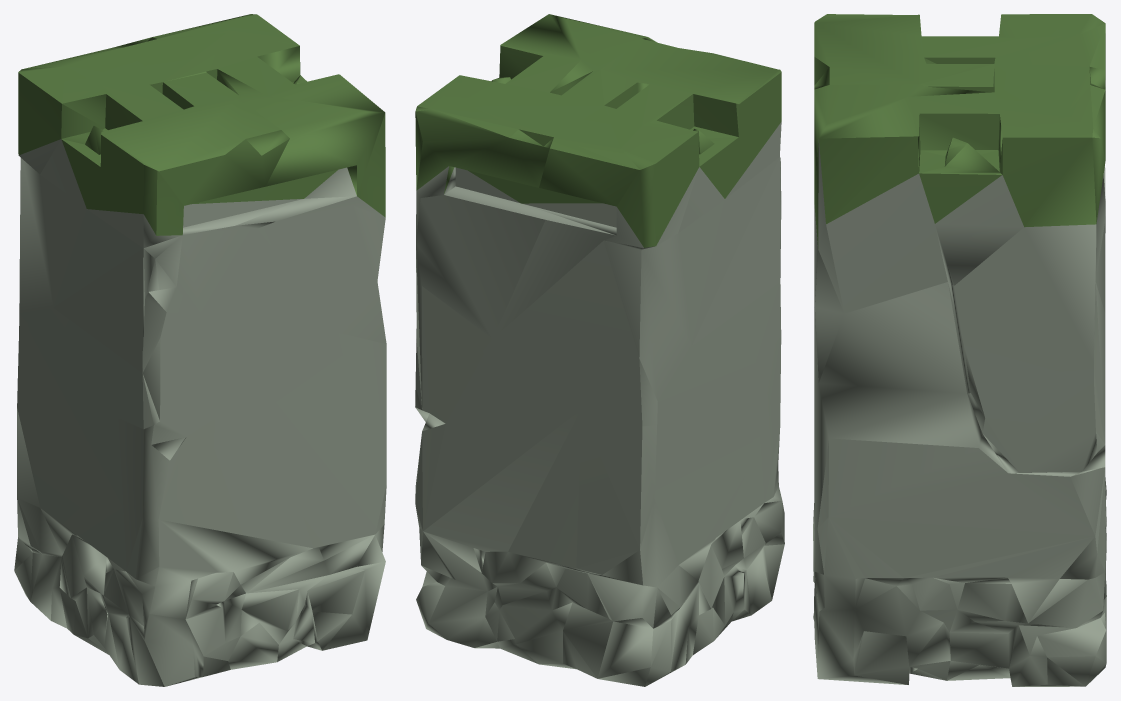
File: cover_full_jungle_v1_lod1.glb
3 views of the same model, side by side, from view 1: azimuth 30°, elevation 25°; view 2: azimuth 150°, elevation 25°; view 3: azimuth 270°, elevation 25° (orthographic). The views are drawn at different scales.
Bounding box in the file's own units: 0.8857 × 1.85 × 0.8858.
